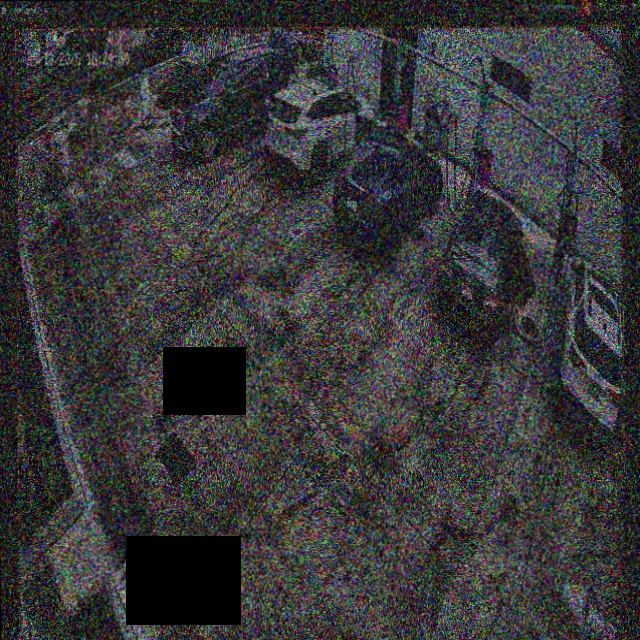Car: (439, 191, 534, 337), (168, 49, 296, 157), (332, 130, 444, 250), (266, 76, 376, 180)
